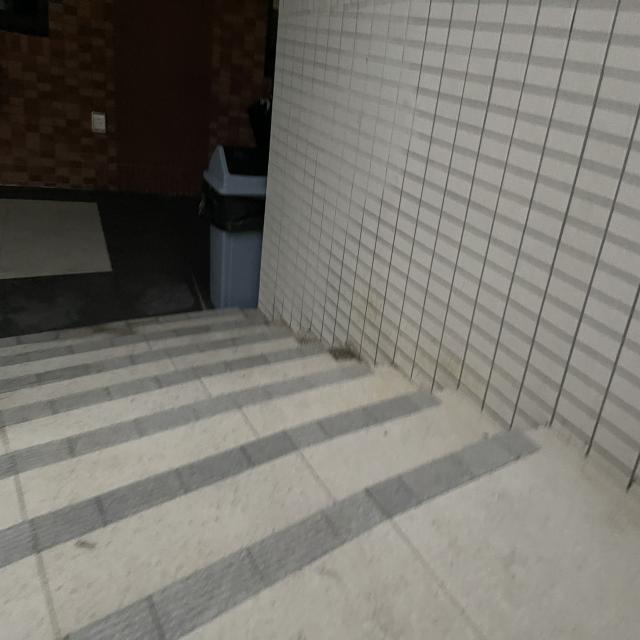Stairs: (0, 320, 640, 640)
